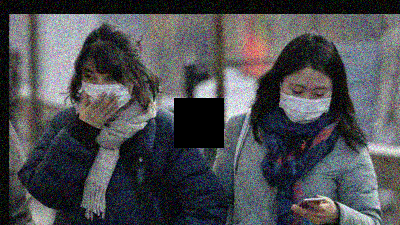with_mask: (279, 82, 332, 125), (80, 67, 129, 112)
